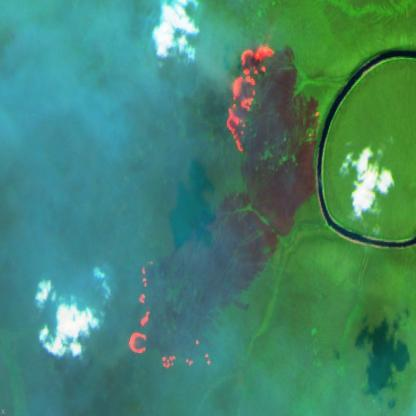fire: (222, 38, 320, 156), (127, 256, 213, 372)
